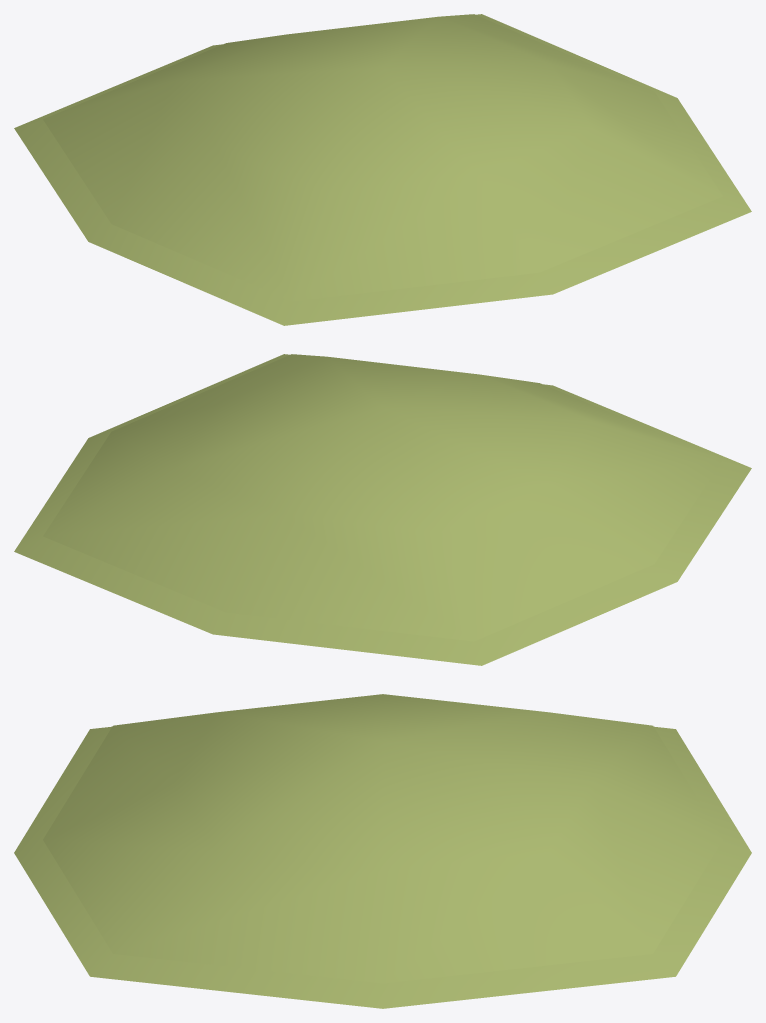
Rendered from cmc_clovers.fbx.
3 renders of one model, top to bottom at view 1: azimuth 30°, elevation 25°; view 2: azimuth 150°, elevation 25°; view 3: azimuth 270°, elevation 25°, orthographic. The views are drawn at different scales.
Visible parts, largest first — view 1: clover_patch_top, clover_patch; view 2: clover_patch_top, clover_patch; view 3: clover_patch_top, clover_patch.
Part boxes in pixels (x1,y1,x2,y2): clover_patch_top: (43, 14, 722, 301); clover_patch: (14, 14, 751, 325); clover_patch_top: (43, 354, 722, 641); clover_patch: (14, 354, 751, 665); clover_patch_top: (43, 694, 722, 983); clover_patch: (14, 726, 751, 1008).
Size of the model in its own units: 0.6096 by 0.1011 by 0.6096.
